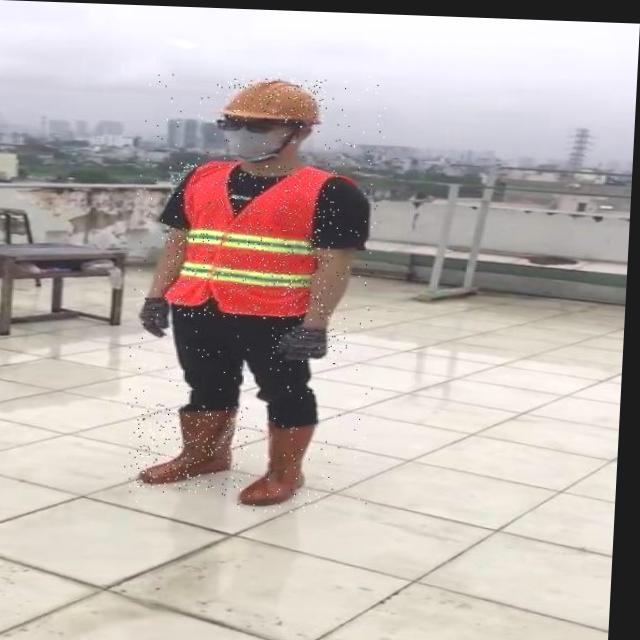Gloves: (280, 322, 333, 360), (142, 295, 174, 336)
Safety-Boot: (144, 400, 244, 484), (244, 414, 322, 505)
Safety-Vest: (161, 154, 362, 318)
